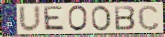B: (113, 5, 137, 31)
C: (137, 4, 161, 32)
E: (43, 6, 66, 32)
O: (91, 5, 113, 32), (68, 5, 89, 33)
U: (18, 5, 43, 34)
